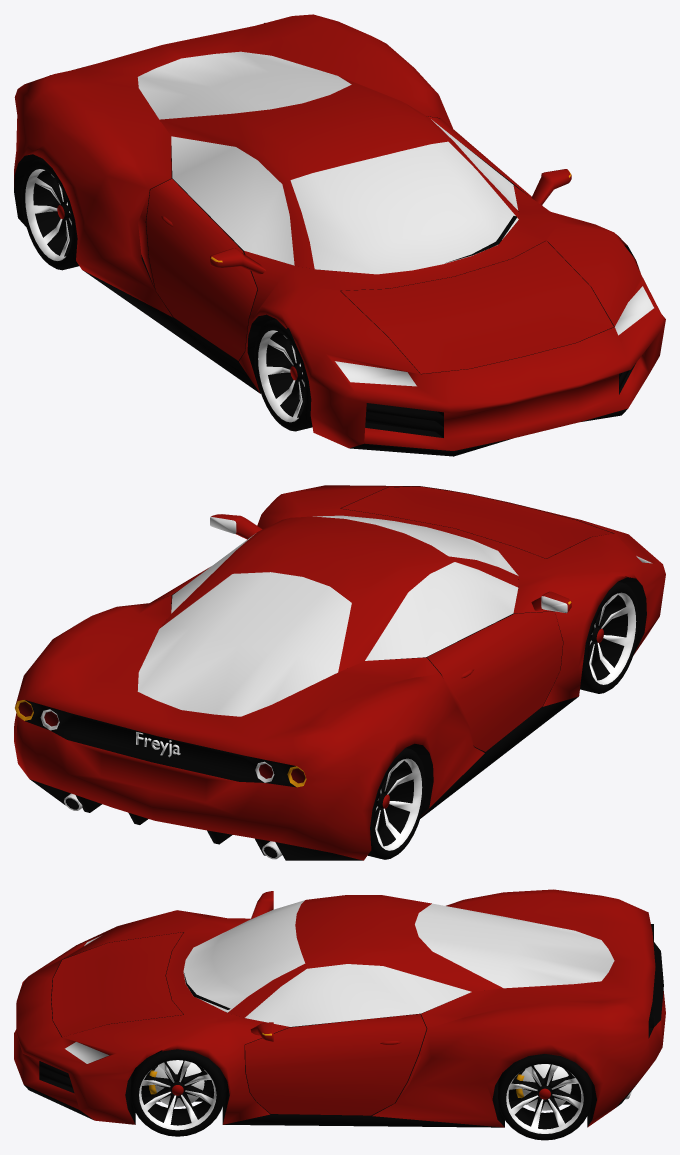
The model's file is super car.fbx.
3 views of the same model, one above another, from view 1: azimuth 30°, elevation 25°; view 2: azimuth 150°, elevation 25°; view 3: azimuth 270°, elevation 25° (orthographic). The views are drawn at different scales.
Visible parts, largest first — view 1: Body; view 2: Body; view 3: Body.
Boxes of the visible parts, x1=… form: Body: x1=14, y1=14, x2=665, y2=456; Body: x1=14, y1=485, x2=665, y2=860; Body: x1=14, y1=889, x2=665, y2=1140.
Size of the model in its own units: 1.58 by 0.7649 by 2.99.
